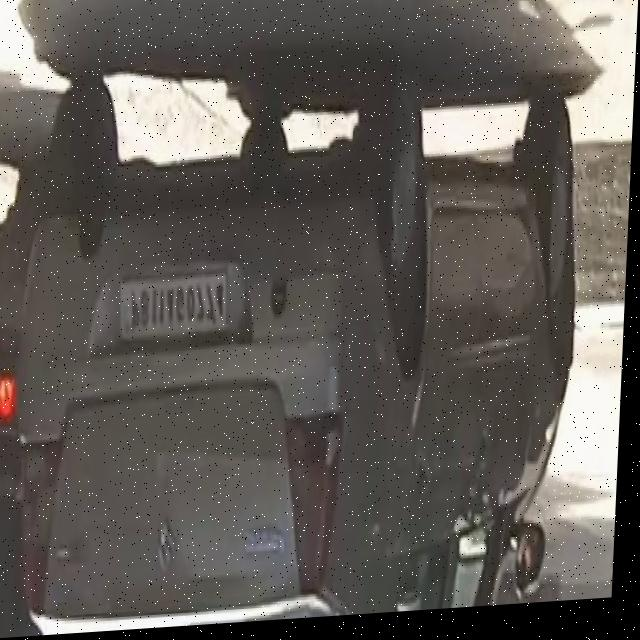plate: (119, 274, 232, 349)
